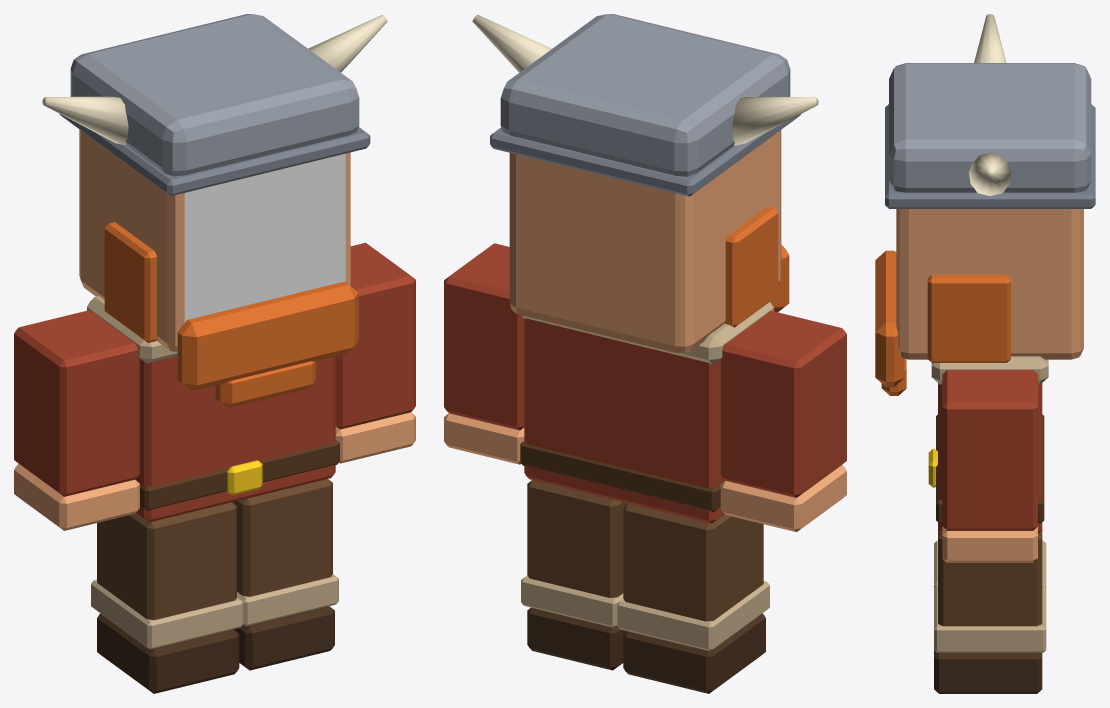
File: bjorn.glb
3 renders of one model, left to right at view 1: azimuth 30°, elevation 25°; view 2: azimuth 150°, elevation 25°; view 3: azimuth 270°, elevation 25°, orthographic. The views are drawn at different scales.
Visible parts, largest first — view 1: Cube.010, Plane, Cube.005, Cube.004, Cube, Cube.012, Cube.009, Cube.007, Cube.002, Cube.001, Cube.011, Cube.014 (+11 smaller); view 2: Cube.009, Cube.010, Cube.004, Cube.005, Cube, Cube.007, Cube.002, Cube.001, Cube.014, Cube.011, Cube.017, Cube.019 (+8 smaller); view 3: Cube.010, Cube.009, Cube.007, Cube.015, Cube.002, Cube.003, Cube.011, Cube.020, Cube.012, Cube.008, Cone, Cube.016 (+4 smaller).
Boxes of the visible parts, x1,y1,x2,y2 form: Cube.010: (70,14,359,176); Plane: (184,153,345,322); Cube.005: (14,310,139,496); Cube.004: (135,356,335,522); Cube: (97,502,236,619); Cube.012: (177,281,358,391); Cube.009: (79,129,350,352); Cube.007: (335,242,415,429); Cube.002: (232,479,332,596); Cube.001: (97,613,239,693); Cube.011: (59,114,370,195); Cube.014: (104,222,157,342); Cube.009: (509,130,781,353); Cube.010: (500,14,790,176); Cube.004: (524,318,725,523); Cube.005: (720,311,846,497); Cube: (623,503,763,621); Cube.007: (444,243,524,430); Cube.002: (527,480,627,597); Cube.001: (623,613,765,693); Cube.014: (724,206,778,327); Cube.011: (490,114,800,196); Cube.017: (520,440,720,512); Cube.019: (617,581,769,651); Cube.010: (889,63,1091,192); Cube.009: (896,209,1083,359); Cube.007: (942,370,1037,530); Cube.015: (927,274,1010,362); Cube.002: (938,530,1042,626); Cube.003: (934,650,1042,693); Cube.011: (885,104,1095,208); Cube.020: (934,585,1046,652); Cube.012: (875,250,904,387); Cube.008: (942,526,1037,562); Cone: (968,152,1011,195); Cube.016: (931,356,1048,384).
Size of the model in its own units: 1.86 by 2.97 by 1.06.
